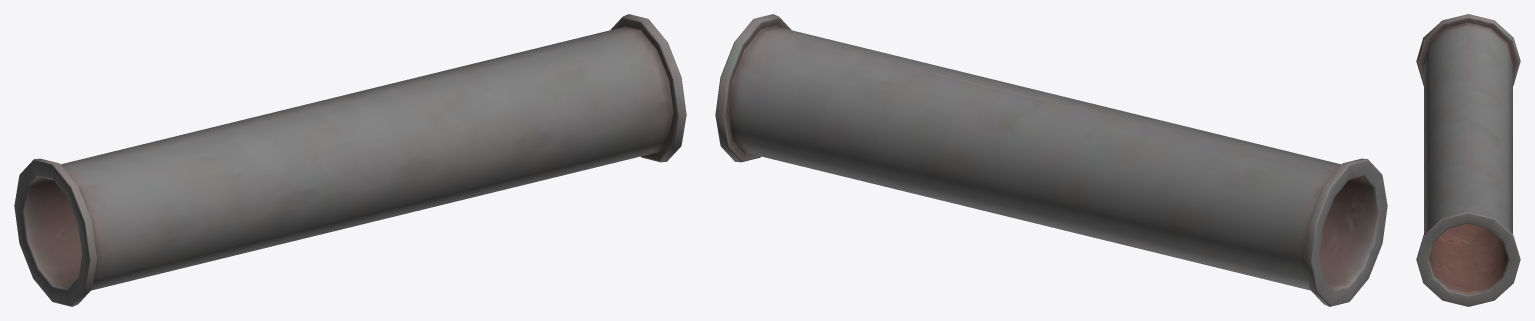
The model's file is Pipe.glb.
3 renders of one model, left to right at view 1: azimuth 30°, elevation 25°; view 2: azimuth 150°, elevation 25°; view 3: azimuth 270°, elevation 25°, orthographic. The views are drawn at different scales.
Parts seen in each view (by area): view 1: Pipe; view 2: Pipe; view 3: Pipe.
Boxes of the visible parts, left/top/right/bottom form: Pipe: left=14, top=14, right=686, bottom=306; Pipe: left=715, top=14, right=1387, bottom=306; Pipe: left=1416, top=14, right=1520, bottom=306.
Size of the model in its own units: 1.25 by 0.277 by 0.277.
Materials: 1 (1 with a texture image).
